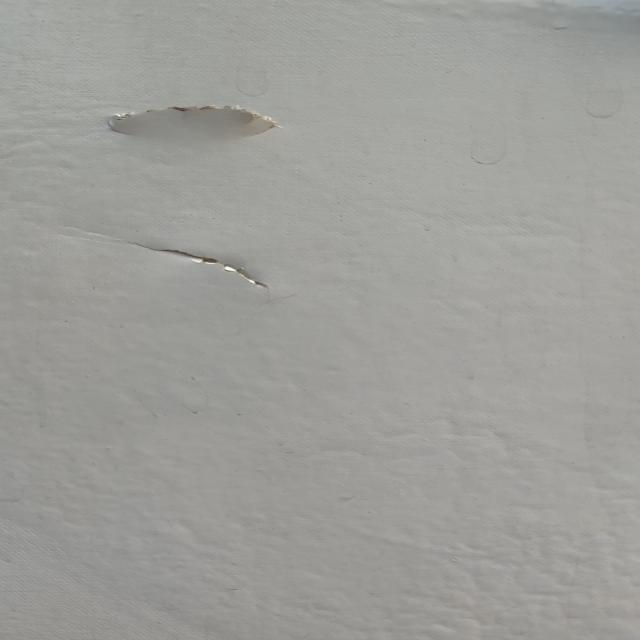Scratches: (129, 238, 307, 300), (102, 99, 300, 142)
